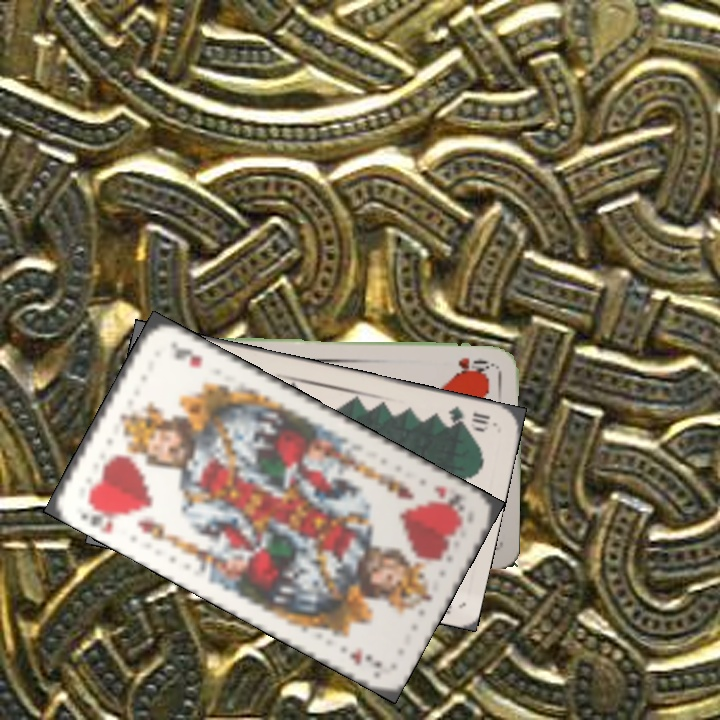G10: (444, 402, 492, 434)
HK: (76, 495, 117, 536), (429, 481, 469, 513)
HO: (451, 353, 496, 375)
